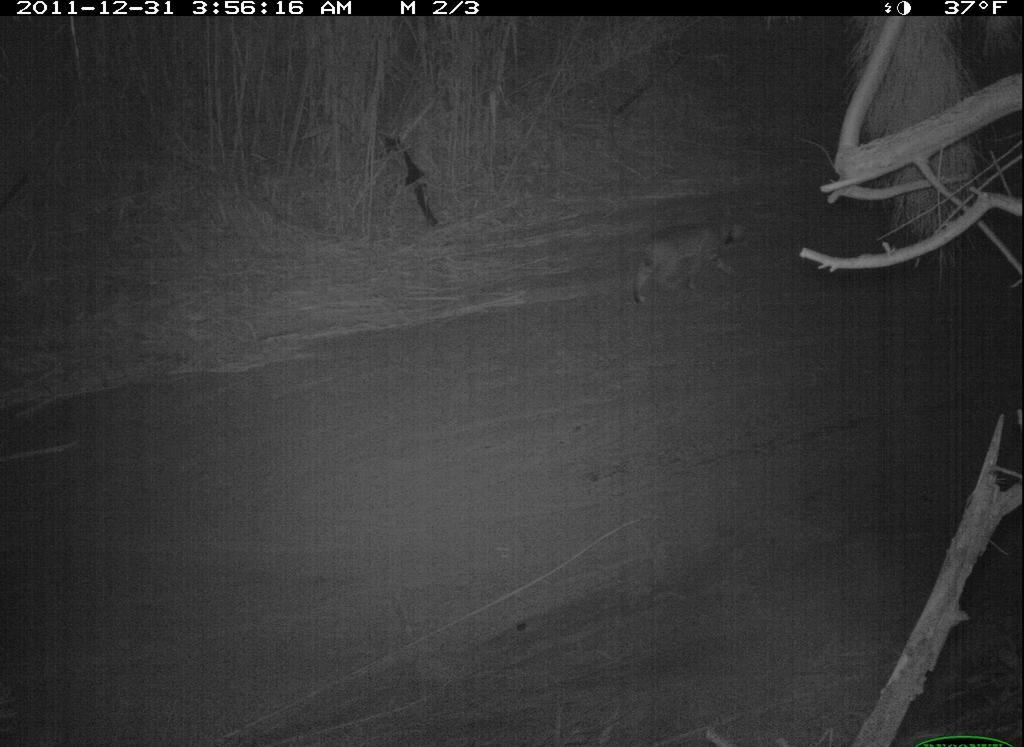bobcat: (627, 217, 751, 310)
